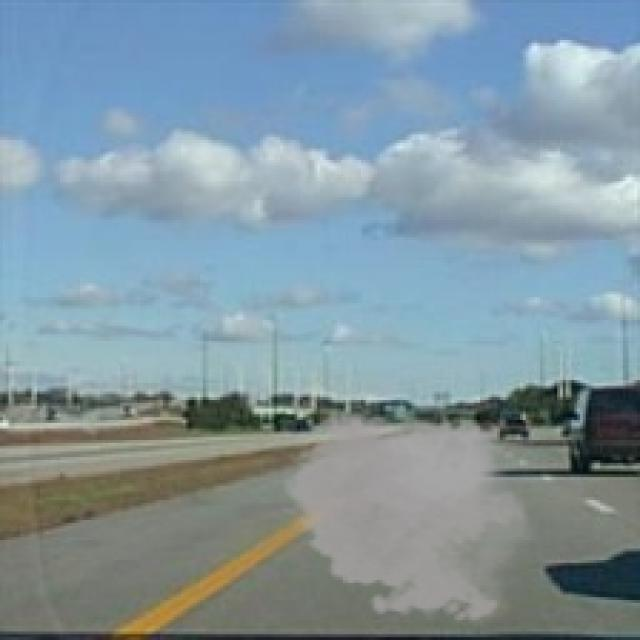Smoke: (274, 402, 543, 628)
